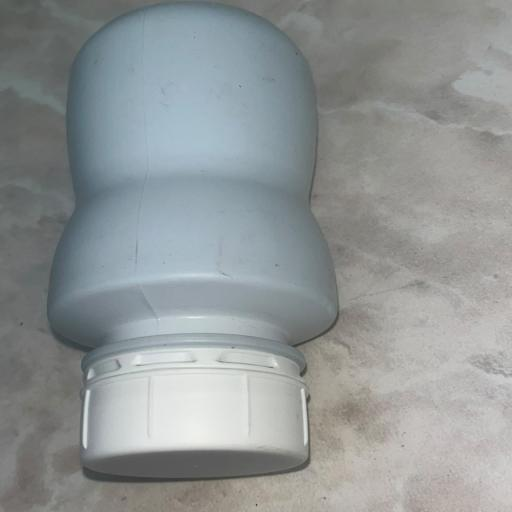HDPE: (16, 5, 400, 490)
